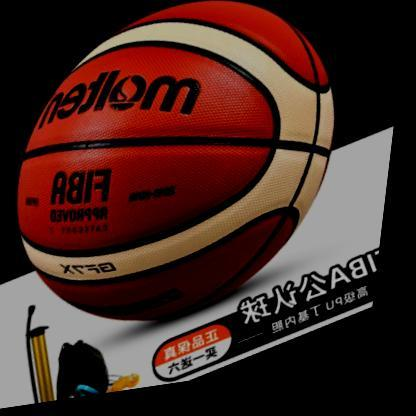basketball: (0, 0, 391, 382)
